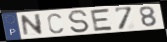7: (114, 6, 133, 31)
8: (139, 5, 158, 28)
C: (46, 13, 65, 35)
E: (90, 8, 115, 33)
N: (20, 13, 45, 37)
S: (67, 9, 91, 34)
